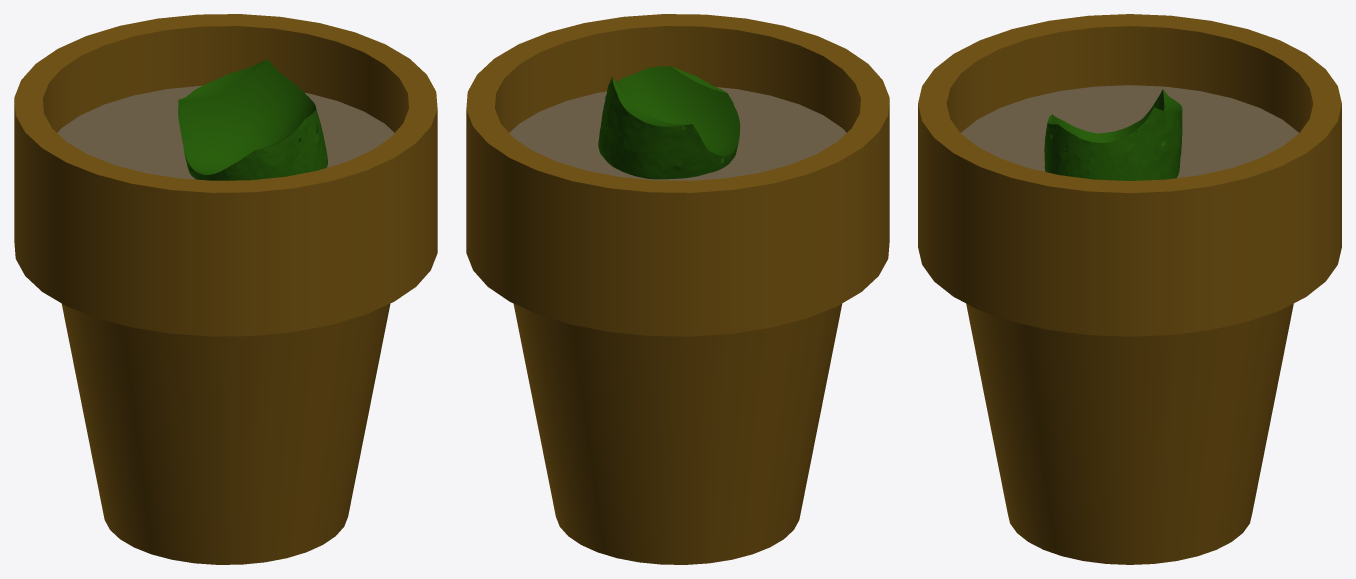
File: krukagurkisT3.fbx
3 views of the same model, side by side, from view 1: azimuth 30°, elevation 25°; view 2: azimuth 150°, elevation 25°; view 3: azimuth 270°, elevation 25° (orthographic).
Parts seen in each view (by area): view 1: Stereo textured mesh; view 2: Stereo textured mesh; view 3: Stereo textured mesh.
Part boxes in pixels (box(x1,y1,x2,y2)): Stereo textured mesh: box(14, 14, 437, 564); Stereo textured mesh: box(466, 14, 889, 564); Stereo textured mesh: box(918, 14, 1341, 564).
Size of the model in its own units: 84 by 94.48 by 84.
